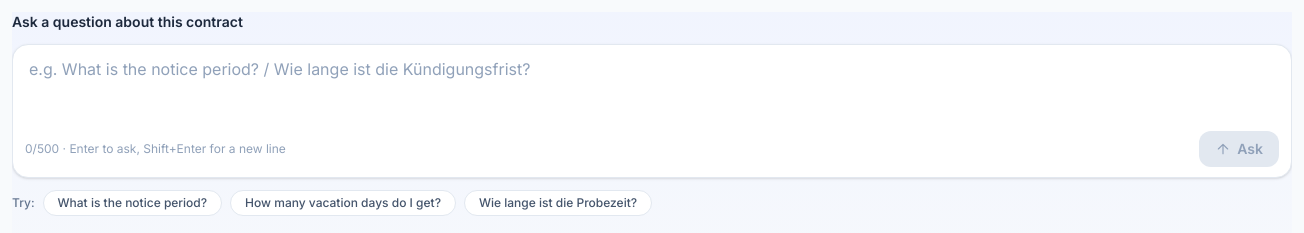
QuestionForm › hides the suggestions once the user starts typing
Type "W" into the text box with test id "question-input".
click(652, 111); type("W")  # box [13, 45, 1291, 177]
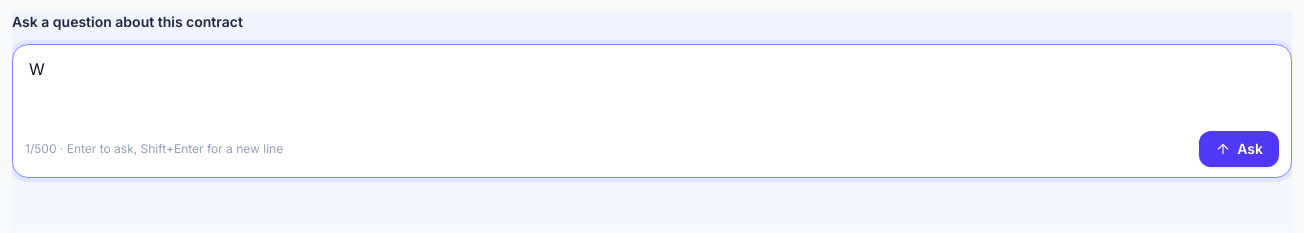
Now the text "Try:" is gone
